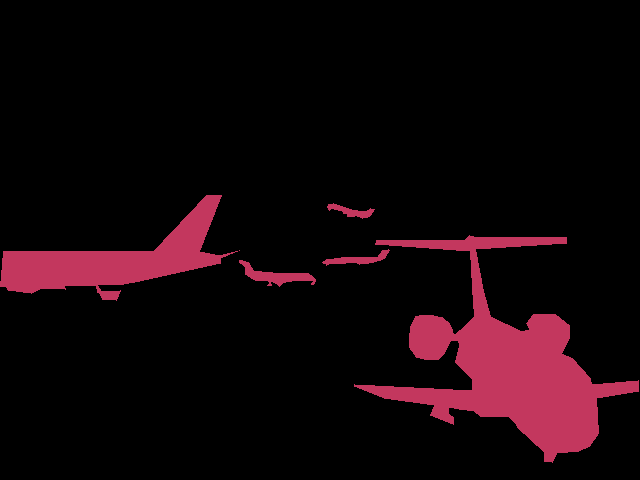Airplane: (354, 235, 639, 463), (0, 195, 239, 301), (239, 260, 316, 286), (322, 249, 389, 266), (327, 203, 375, 218)
